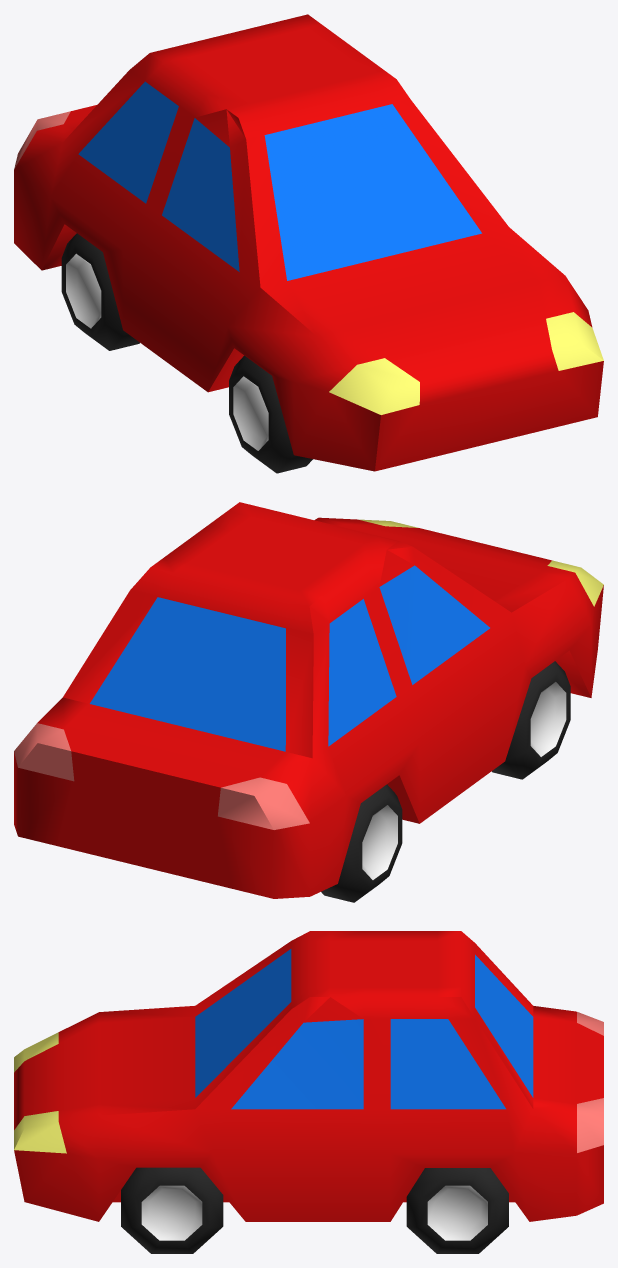
The model's file is car000.fbx.
3 views of the same model, one above another, from view 1: azimuth 30°, elevation 25°; view 2: azimuth 150°, elevation 25°; view 3: azimuth 270°, elevation 25° (orthographic). The views are drawn at different scales.
Visible parts, largest first — view 1: obj0, obj1, obj5, obj3, obj4, obj2; view 2: obj0, obj1, obj5, obj2, obj4, obj3; view 3: obj0, obj1, obj5, obj4, obj3, obj2.
Part boxes in pixels (x1,y1,x2,y2): obj0: (14,14,603,471); obj1: (78,81,481,280); obj5: (61,233,312,473); obj3: (329,312,603,414); obj4: (66,253,268,450); obj2: (14,111,70,168); obj0: (14,502,603,898); obj1: (90,565,489,751); obj5: (321,661,570,902); obj2: (14,723,309,829); obj4: (362,682,566,879); obj3: (359,519,603,606); obj0: (14,931,603,1221); obj1: (195,949,533,1109); obj5: (121,1167,508,1253); obj4: (141,1185,487,1240); obj3: (14,1032,66,1153); obj2: (577,1012,603,1152).
Bounding box in the file's own units: 9.85 × 8.75 × 20.
